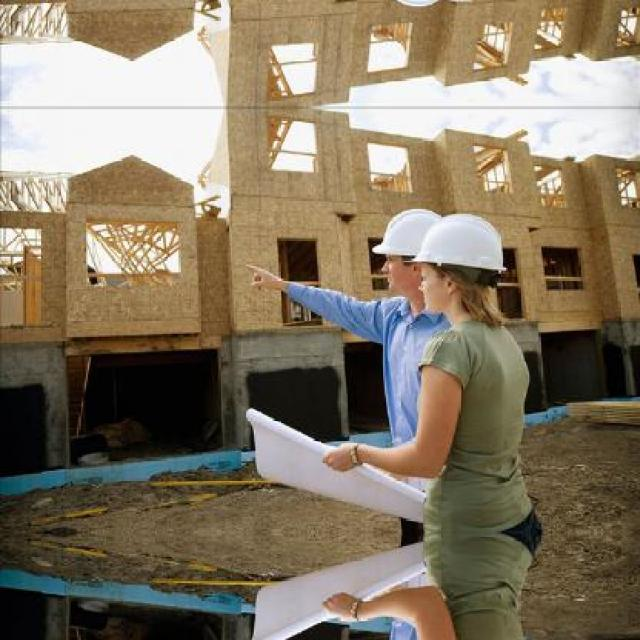helmet: (406, 212, 502, 317), (371, 207, 442, 296)
